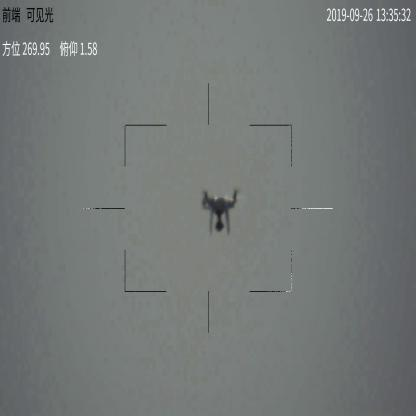uav: (200, 188, 240, 235)
